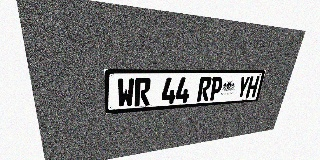4: (161, 77, 177, 104), (175, 77, 191, 103)
H: (245, 76, 260, 98)
P: (208, 77, 224, 101)
R: (134, 78, 151, 106), (197, 77, 212, 102)
W: (117, 78, 134, 108)
Y: (236, 76, 250, 99)
